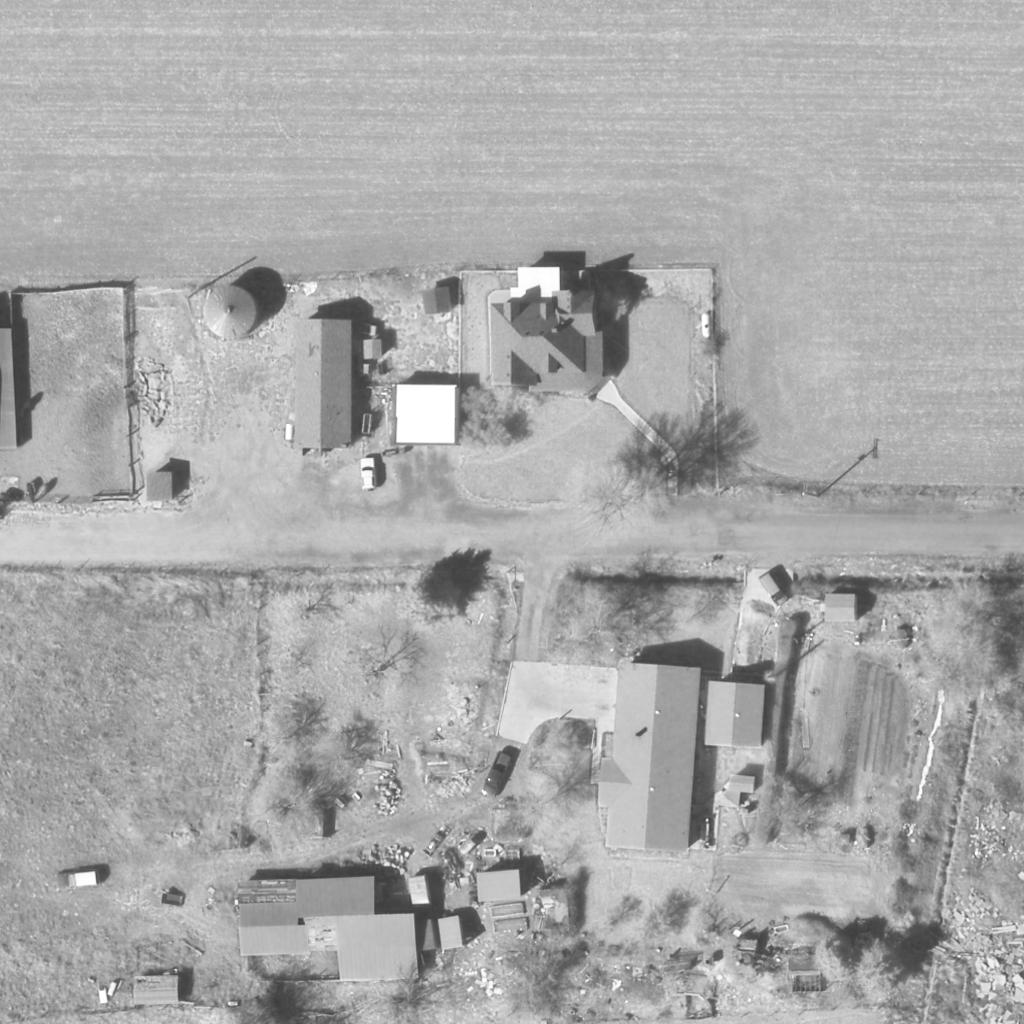vehicle: (480, 752, 516, 804), (757, 572, 791, 606), (53, 871, 99, 891), (359, 457, 377, 493)
